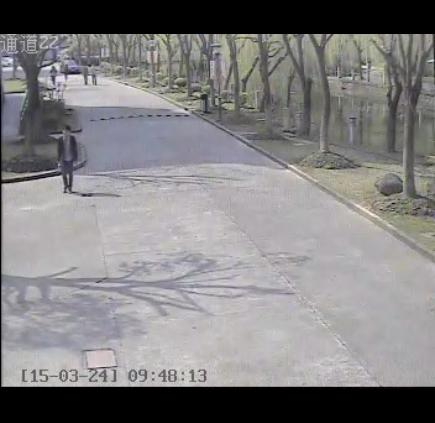person: (53, 122, 81, 196), (88, 61, 100, 87), (47, 64, 60, 88), (80, 61, 90, 87)
